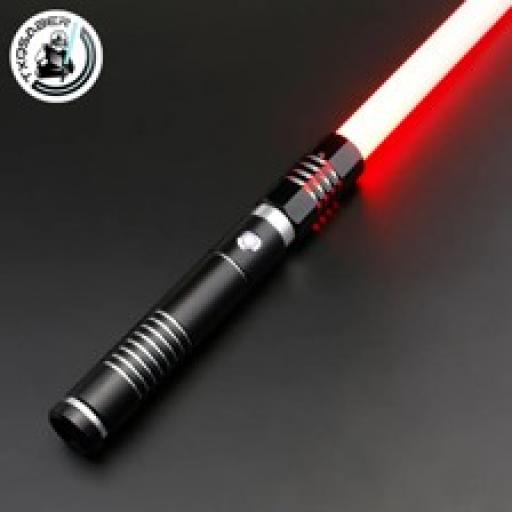lightsaber: (46, 1, 512, 449)
